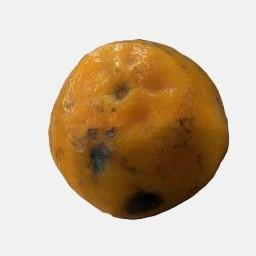Unripe: (51, 43, 228, 219)
